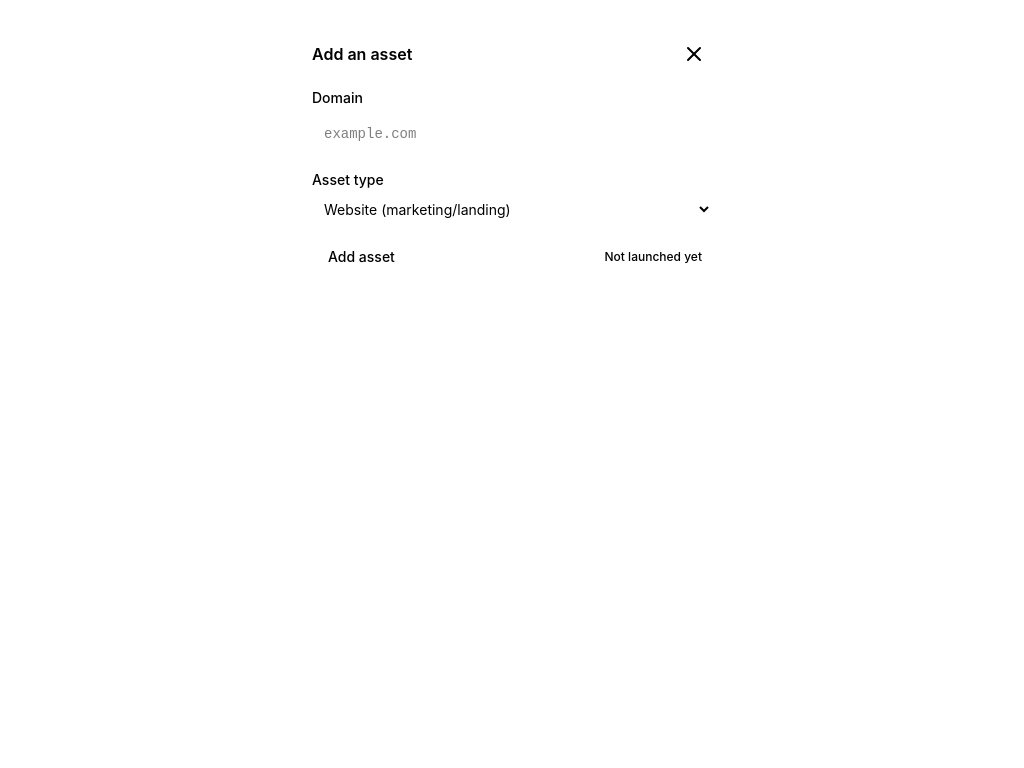
Add writes the row, then one changeset — the wizard's writes › offers no way to an asset when the refusal names none
Type "shop.example.com" into the field labelled "Domain" at {"x": 512, "y": 134}, box [312,114,712,154]
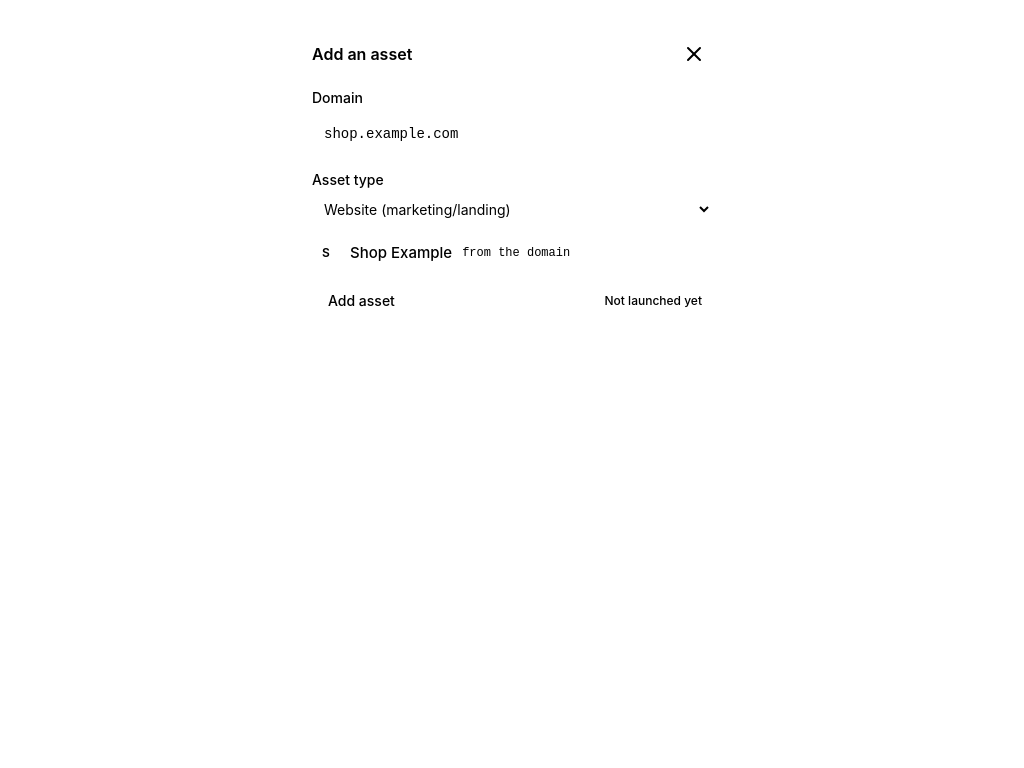
Click the button "Add asset" at {"x": 361, "y": 301}, box [312,283,411,319]
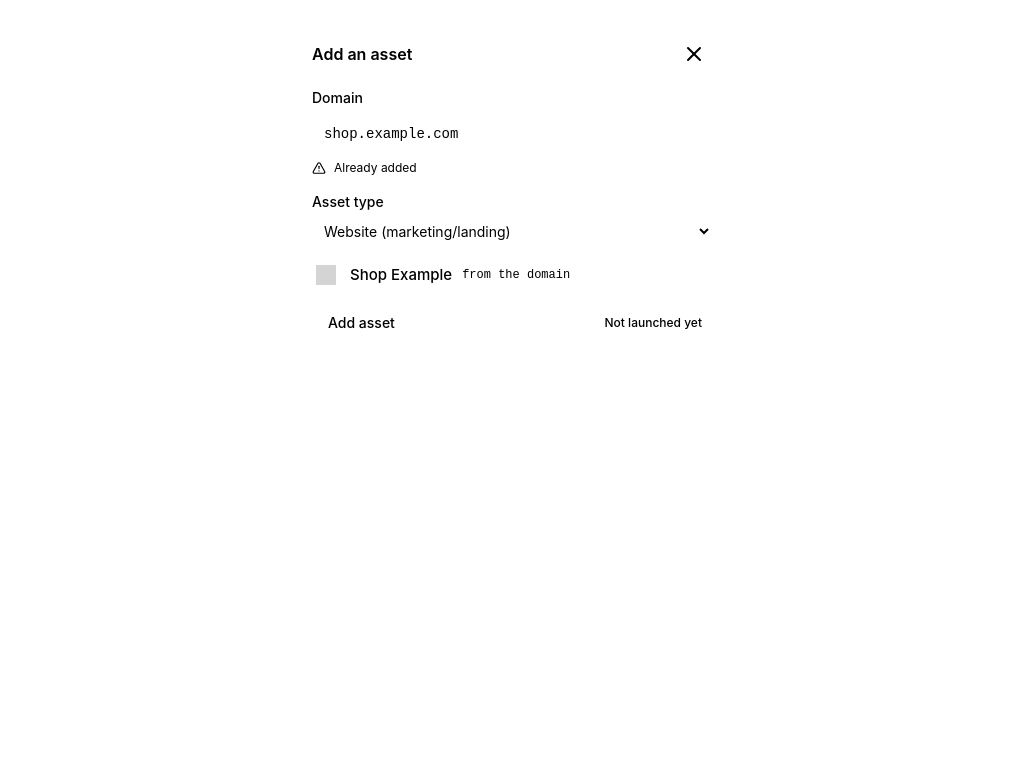
Check: the text "Already added" is shown, box [312,160,417,175]
